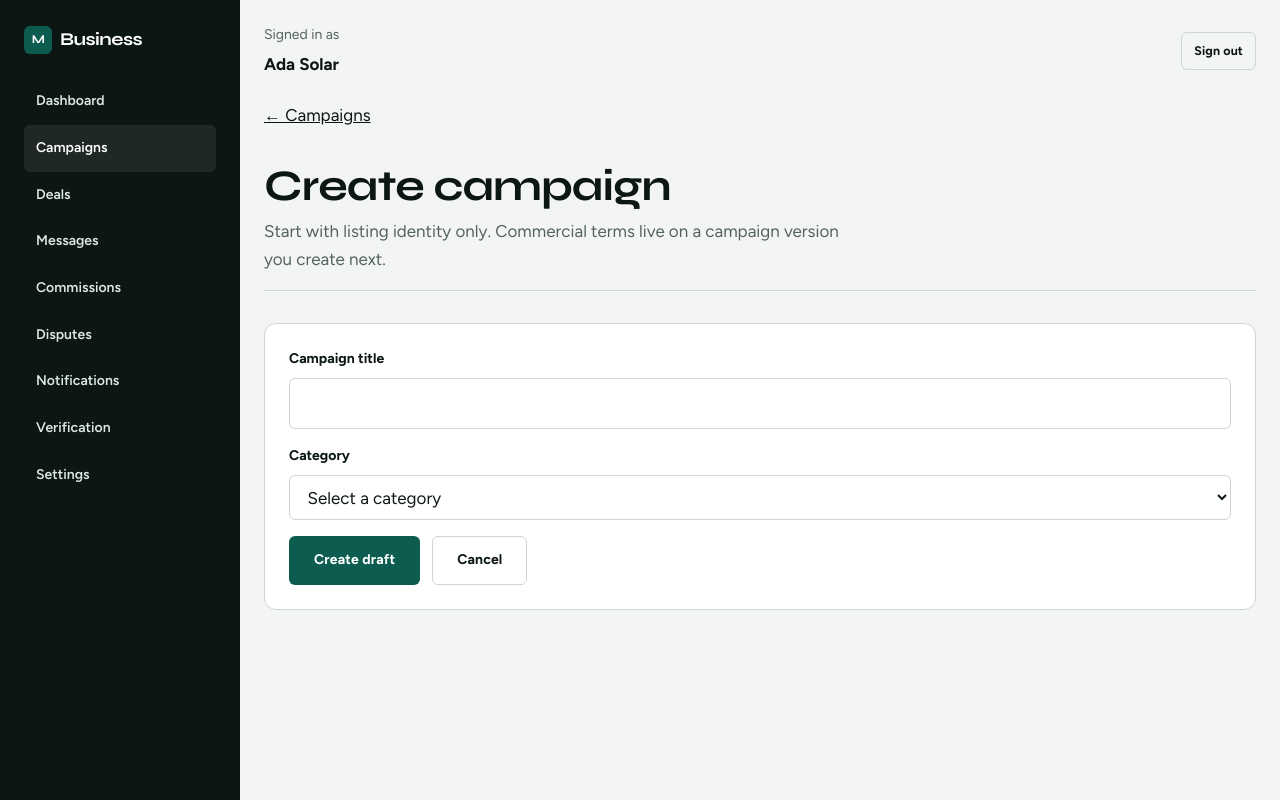
Test: Business campaigns desk › surfaces server validation errors on create
Check: the button "Create draft" is shown, box [289,536,420,585]
Type "Dup" into the field labelled "Campaign title" at (760, 403), box [289,378,1231,428]
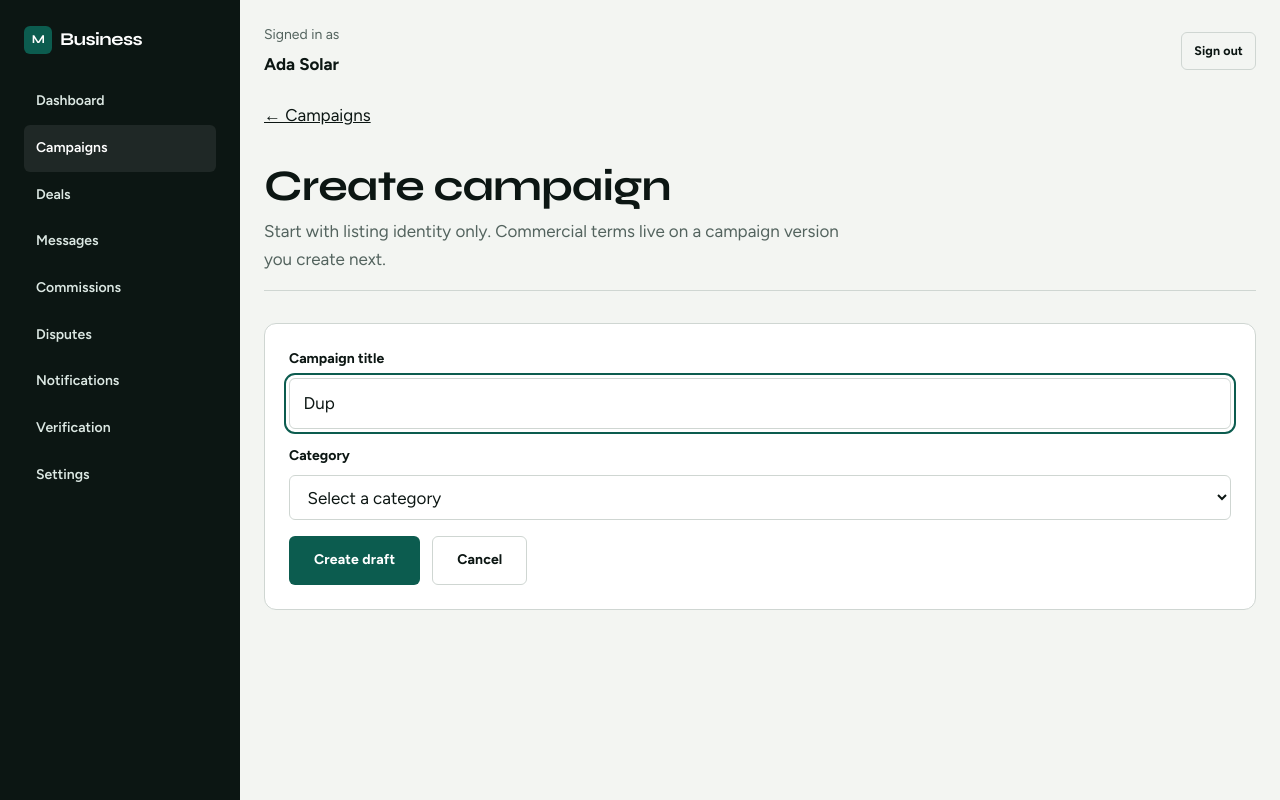
Select "Solar & Energy" in the dropdown labelled "Category" at (760, 498), box [289,475,1231,520]
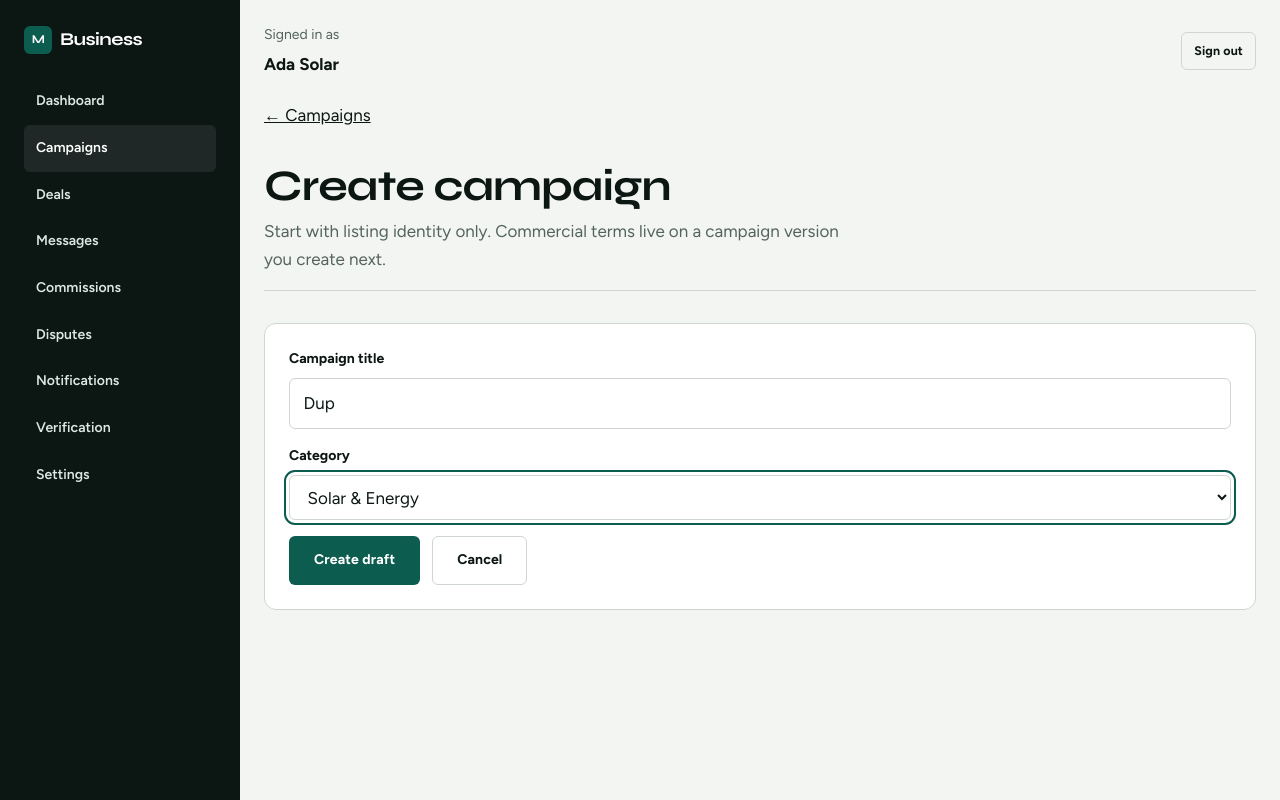
Click the button "Create draft" at (355, 560), box [289,536,420,585]
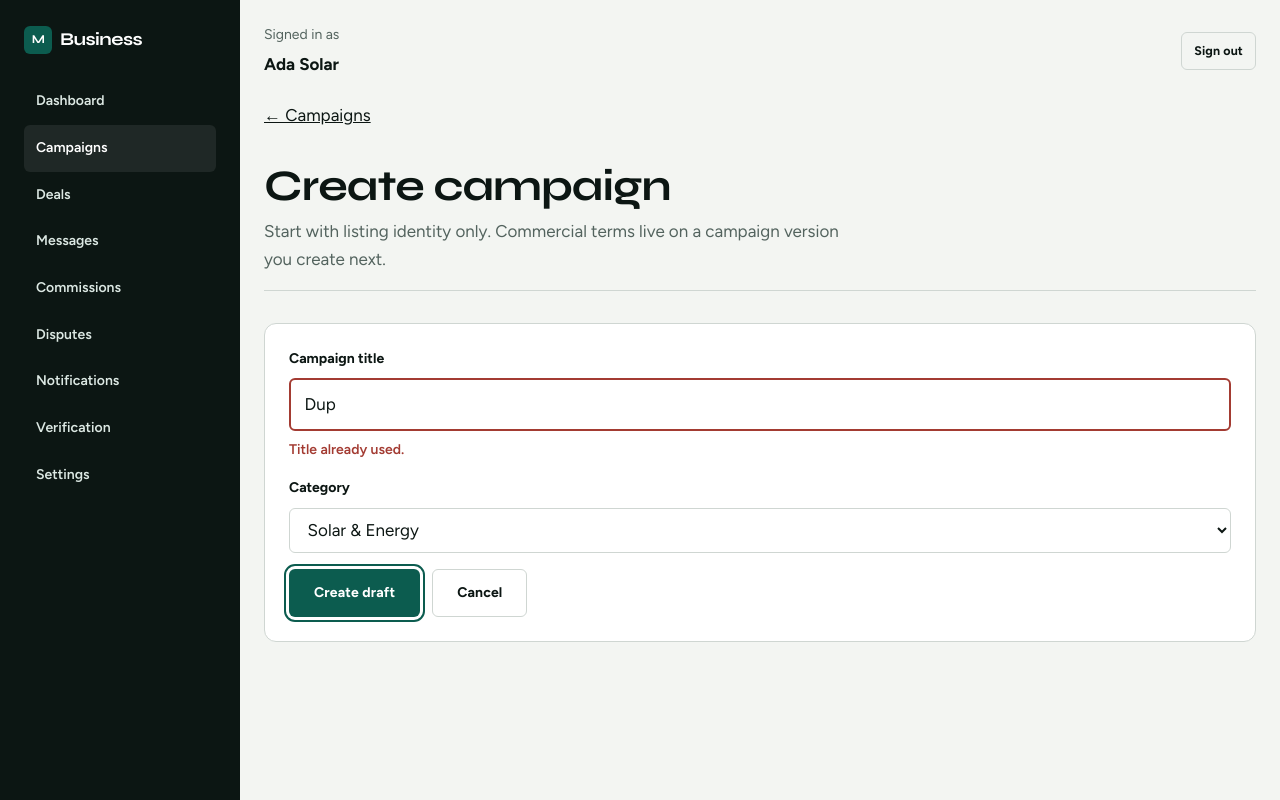
Check: the text "Title already used." is shown, box [289,440,404,458]
